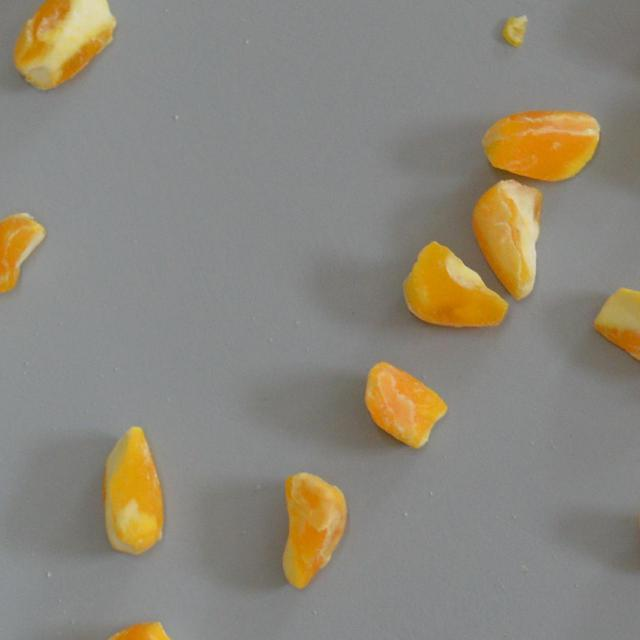dañado: (400, 240, 512, 332)
pelicula: (8, 0, 122, 92), (98, 421, 170, 555), (272, 470, 350, 593), (469, 178, 546, 300), (478, 108, 603, 183), (363, 359, 450, 449), (590, 285, 640, 376), (0, 210, 49, 294), (62, 615, 180, 640)
